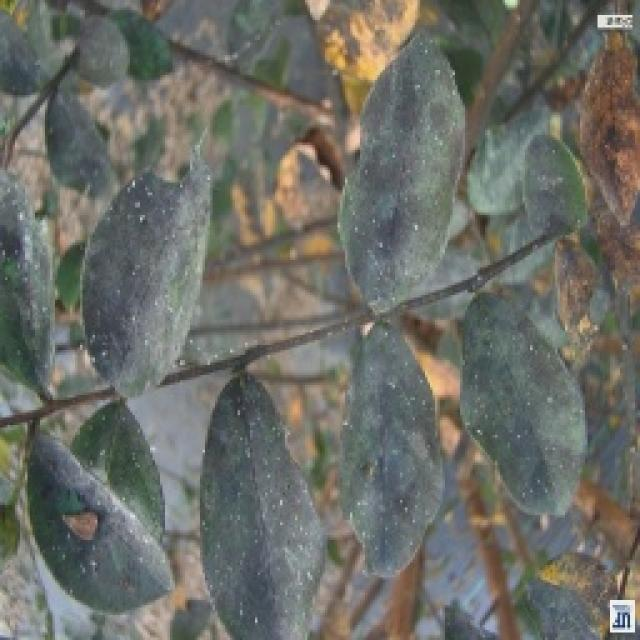Sooty Mold: (195, 368, 327, 638), (20, 427, 175, 615)
